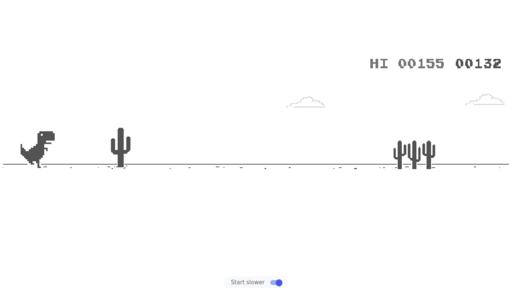dino: (19, 131, 56, 168)
tree: (392, 139, 436, 169), (110, 127, 131, 166)
